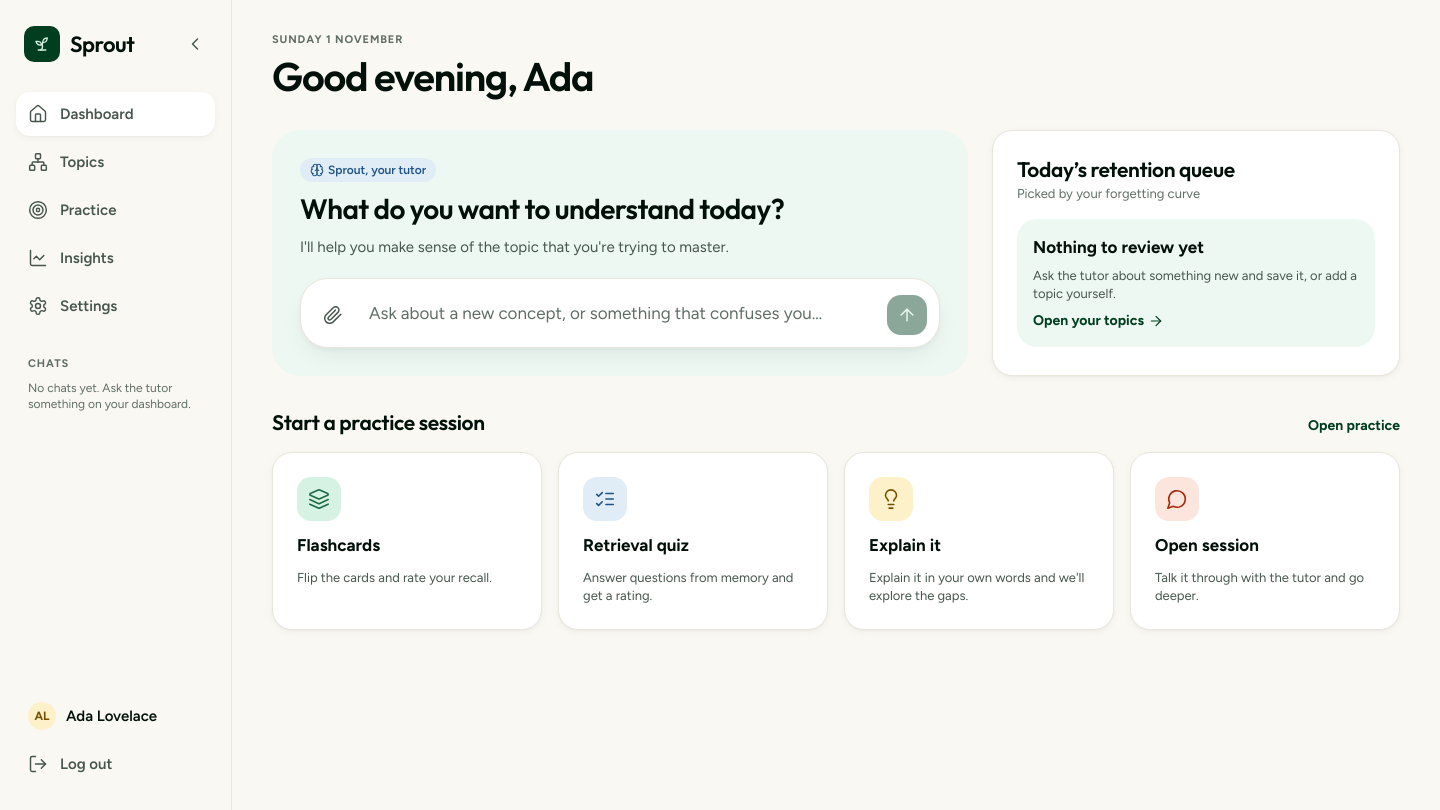
DashboardView › gives your message back when the tutor can’t answer
In the text box with test id "composer-input": (620, 313) [361,291,879,335], type "I want to learn about running"
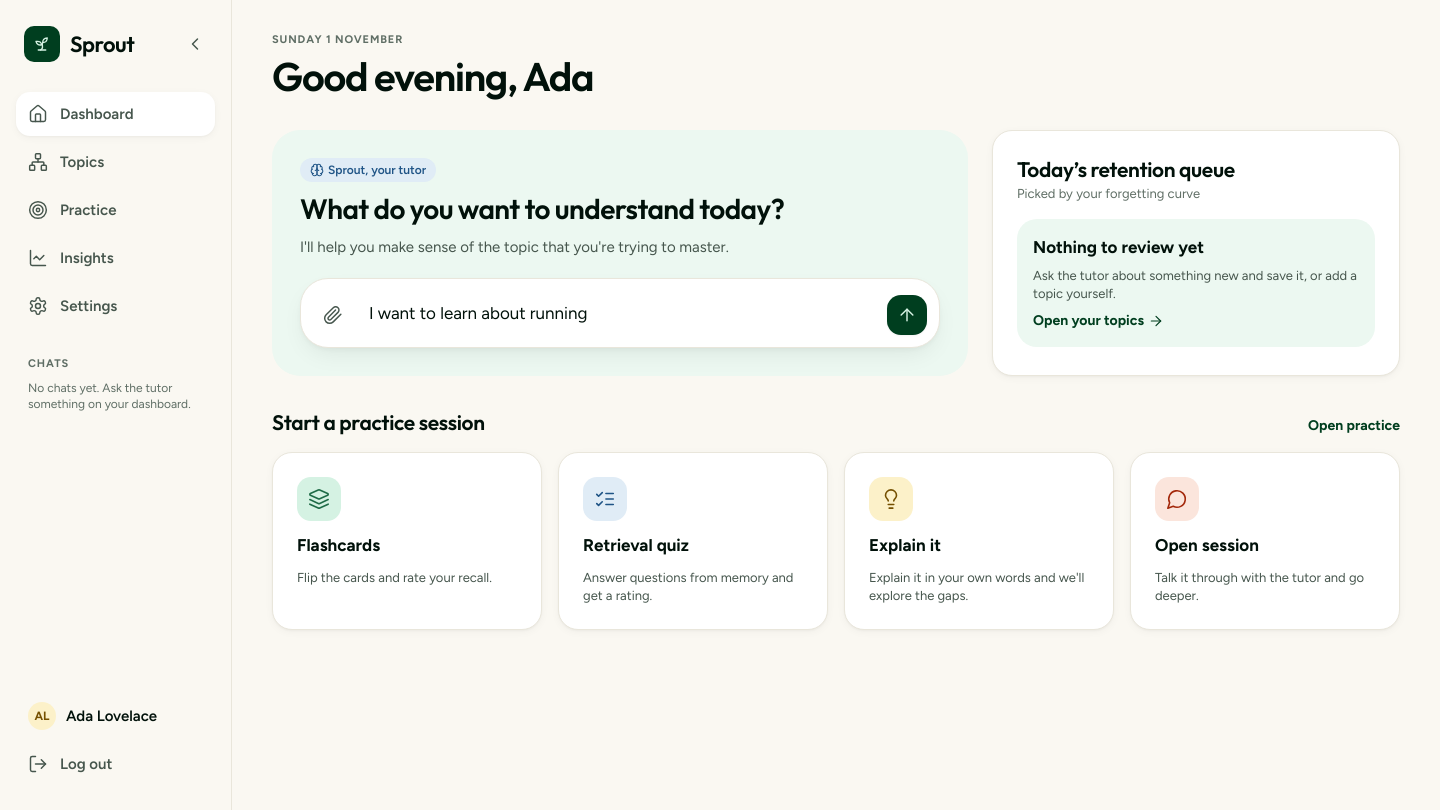
Click the button with test id "composer-send": (907, 315) [887,295,927,335]
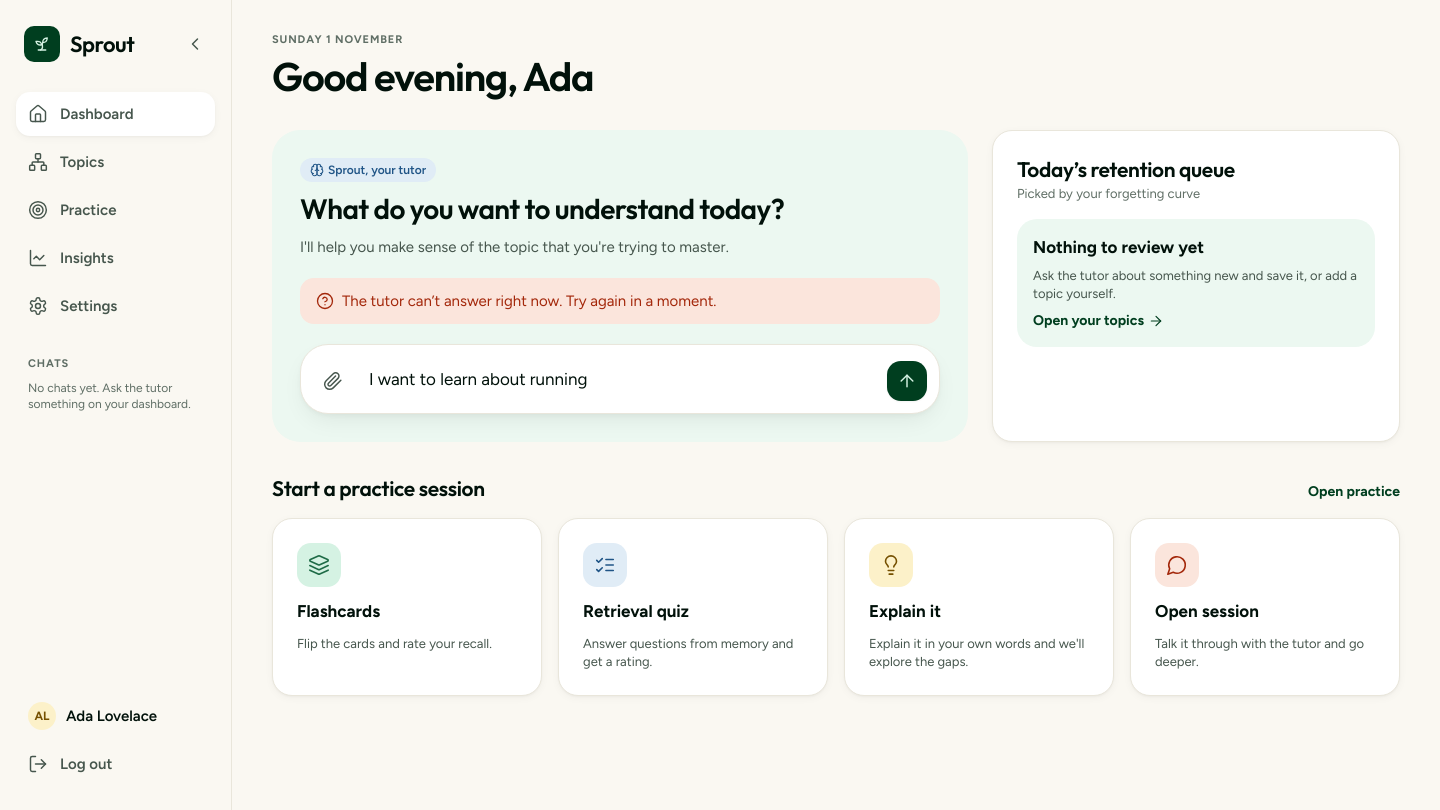
expect the message with test id "form-error" reads "The tutor can’t answer right now. Try again in a moment.": met, box [342,292,716,310]
